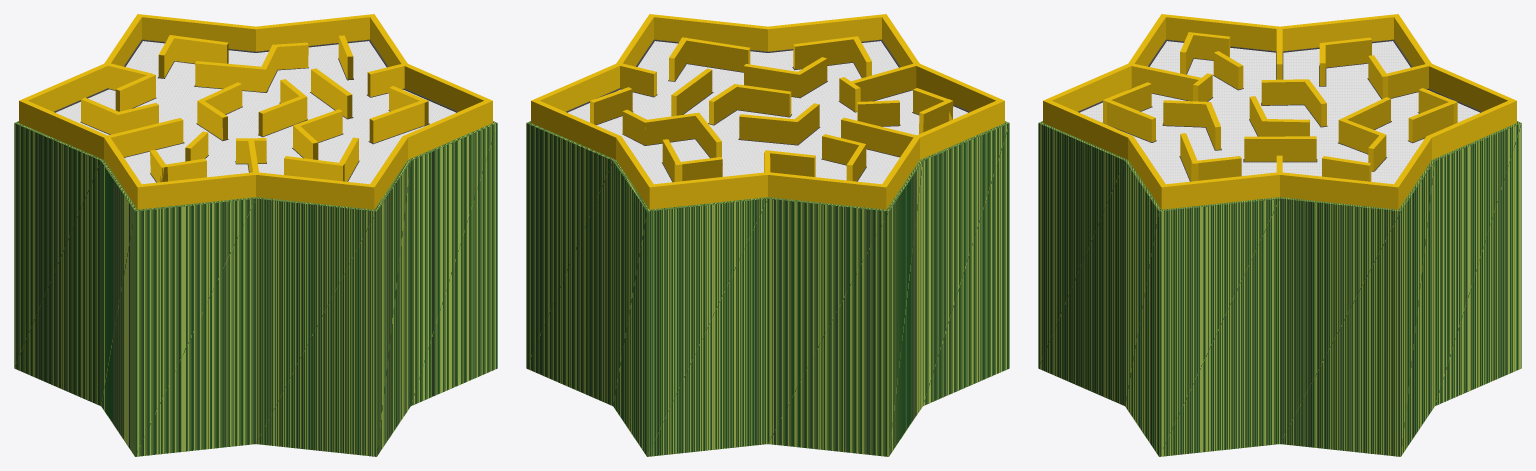
Rendered from Level_15.FBX.
3 views of the same model, side by side, from view 1: azimuth 30°, elevation 25°; view 2: azimuth 150°, elevation 25°; view 3: azimuth 270°, elevation 25° (orthographic).
Visible parts, largest first — view 1: Level_15; view 2: Level_15; view 3: Level_15.
Part boxes in pixels (x1,y1,x2,y2): Level_15: (14,14,497,456); Level_15: (526,14,1009,456); Level_15: (1038,14,1521,456).
Size of the model in its own units: 250 by 177 by 288.
